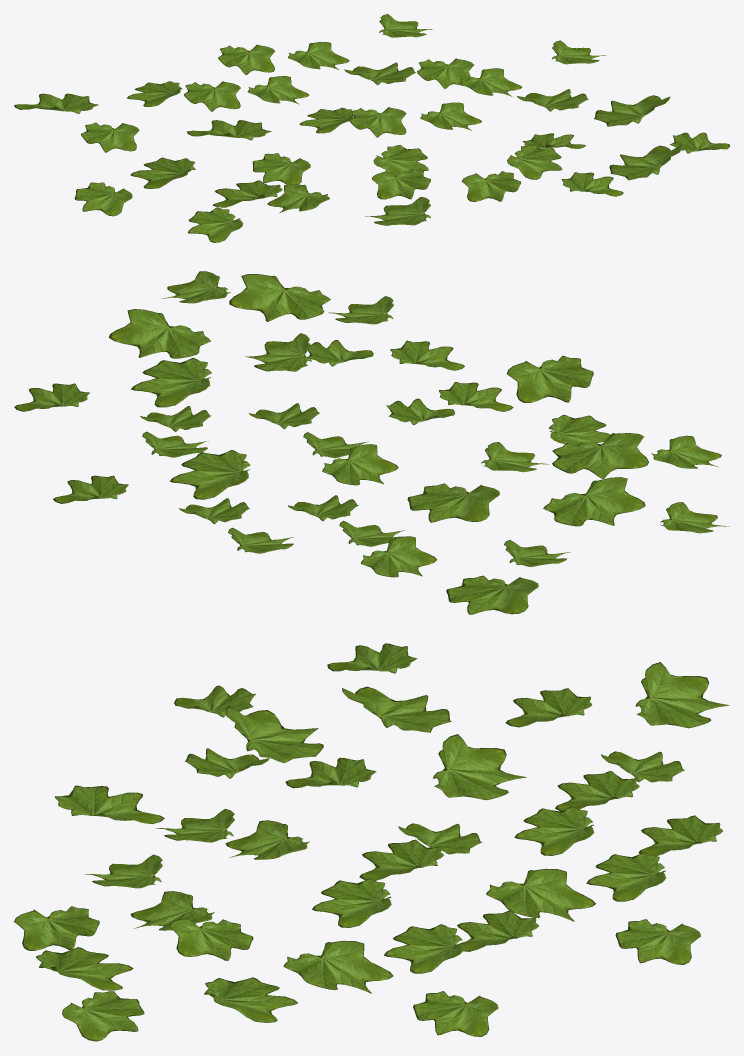
The model's file is Leafs.FBX.
The picture shows the model from 3 angles, top to bottom: view 1: azimuth 30°, elevation 25°; view 2: azimuth 150°, elevation 25°; view 3: azimuth 270°, elevation 25°; orthographic projection. The views are drawn at different scales.
Parts seen in each view (by area): view 1: Leafs; view 2: Leafs; view 3: Leafs.
Part boxes in pixels (x1=…): Leafs: x1=14, y1=14, x2=729, y2=242; Leafs: x1=14, y1=271, x2=729, y2=614; Leafs: x1=14, y1=643, x2=729, y2=1041.
Size of the model in its own units: 44.39 by 1.41 by 34.31.
Materials: 1 (1 with a texture image).
